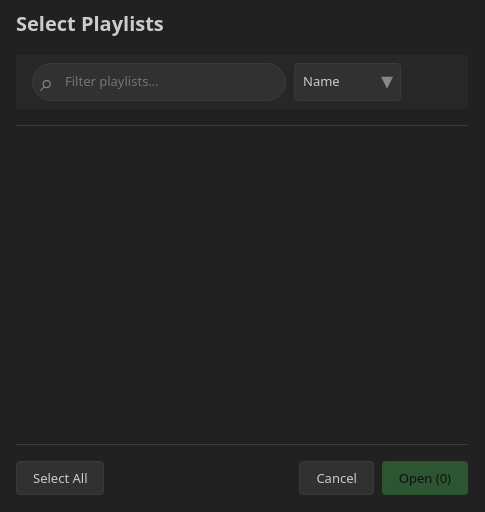
PlaylistSelectModal › Deselect All clears selection
Click the button "Select All".
click(60, 478)  # box 16,460 -> 104,495
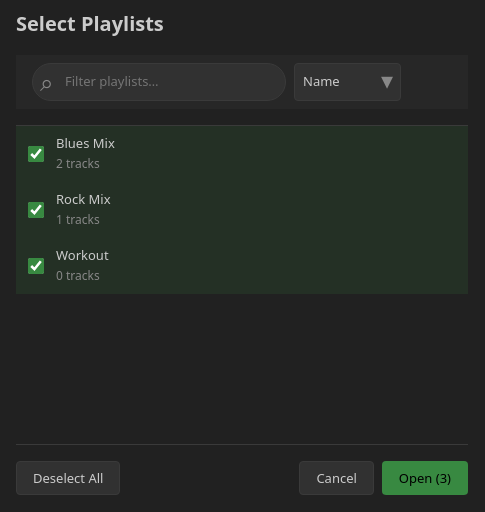
Click the button "Deselect All".
click(68, 478)  # box 16,460 -> 120,495
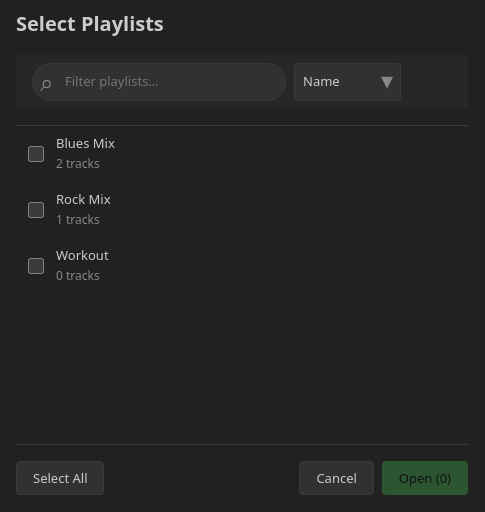
Expected: the button "Open (0)" is disabled, 382,460 -> 468,495
